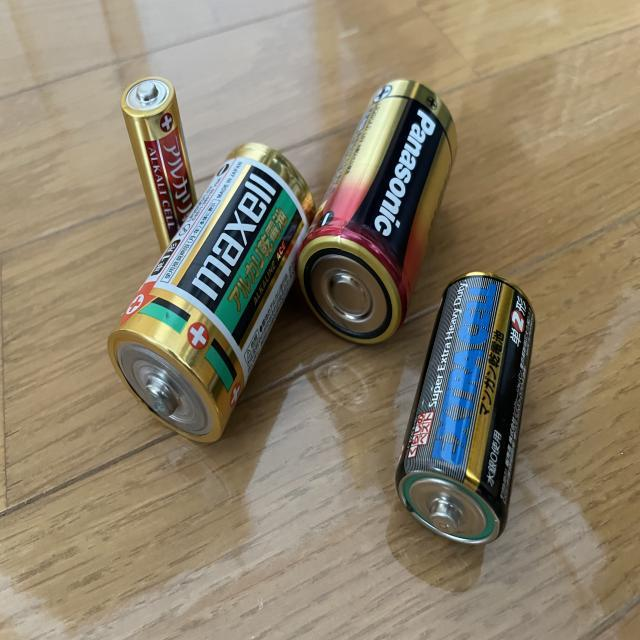hazardous waste: (100, 134, 323, 451), (288, 73, 468, 360), (384, 266, 546, 558), (115, 60, 212, 285)
